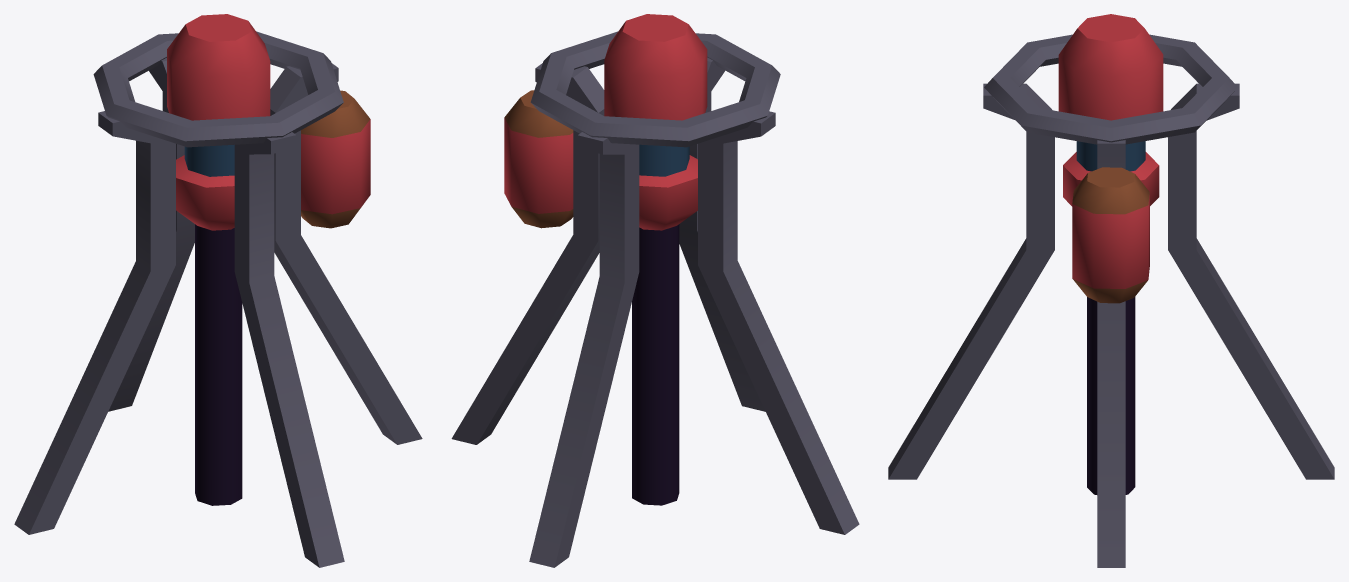
The model's file is FarmLiquid.fbx.
The picture shows the model from 3 angles, left to right: view 1: azimuth 30°, elevation 25°; view 2: azimuth 150°, elevation 25°; view 3: azimuth 270°, elevation 25°; orthographic projection.
Visible parts, largest first — view 1: FarmOil, FarmOil(Pump); view 2: FarmOil, FarmOil(Pump); view 3: FarmOil, FarmOil(Pump).
Part boxes in pixels (x1,y1,x2,y2): FarmOil: (14, 31, 422, 567); FarmOil(Pump): (167, 14, 270, 230); FarmOil: (451, 31, 859, 567); FarmOil(Pump): (604, 14, 707, 230); FarmOil: (888, 34, 1334, 567); FarmOil(Pump): (1058, 14, 1163, 206).
Bounding box in the file's own units: 181 × 205 × 181.
